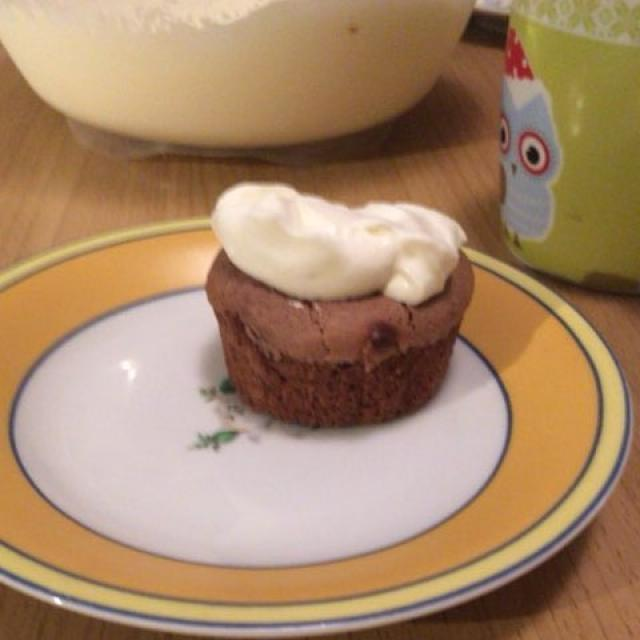cream: (201, 171, 455, 298)
